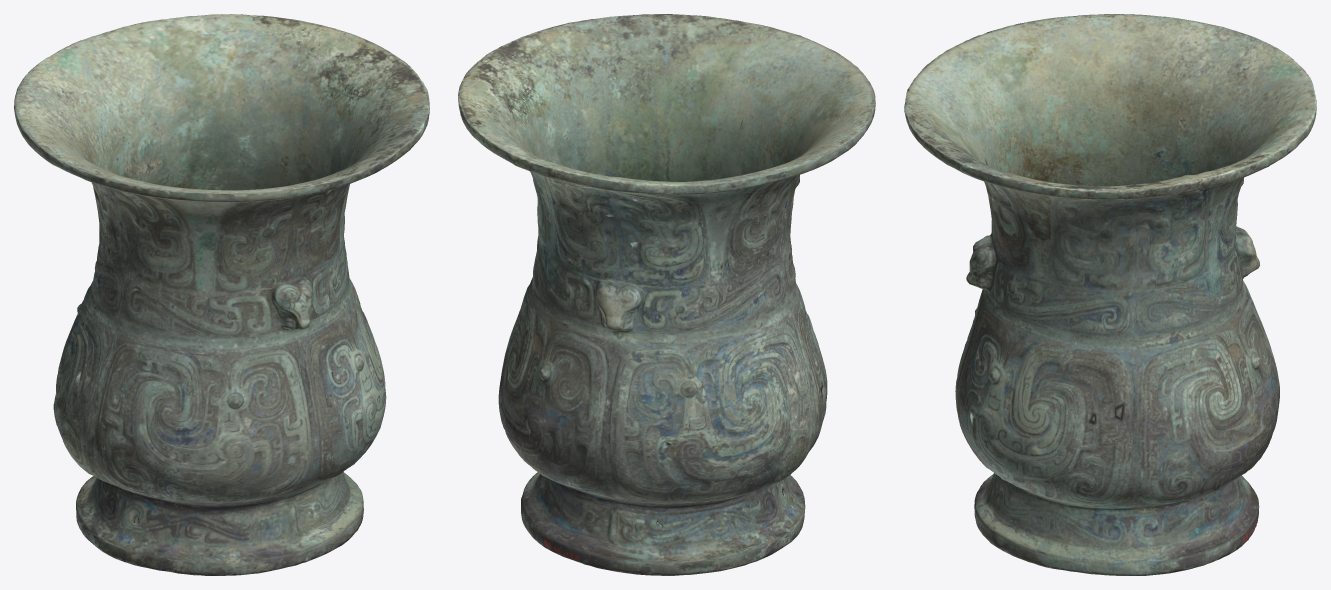
The model's file is zun.glb.
3 renders of one model, left to right at view 1: azimuth 30°, elevation 25°; view 2: azimuth 150°, elevation 25°; view 3: azimuth 270°, elevation 25°, orthographic.
Parts seen in each view (by area): view 1: Object_2; view 2: Object_2; view 3: Object_2.
Part boxes in pixels (bbox=[...]): Object_2: bbox=[14, 14, 429, 575]; Object_2: bbox=[458, 14, 875, 575]; Object_2: bbox=[904, 14, 1316, 575].
Bounding box in the file's own units: 0.1746 × 0.1934 × 0.1717.
Materials: 1 (1 with a texture image).
